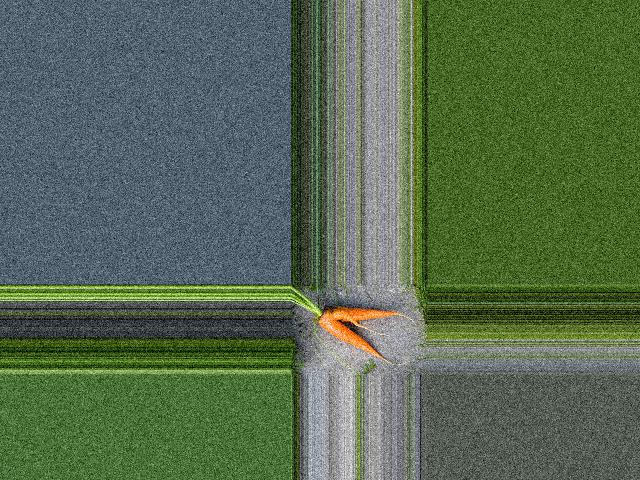carrot: (327, 298, 414, 331)
